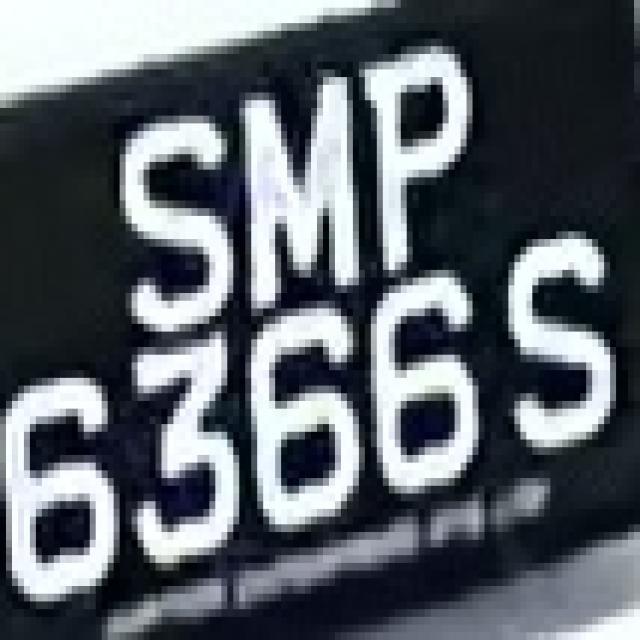3: (108, 324, 251, 563)
6: (353, 247, 490, 509), (239, 285, 371, 532), (0, 339, 120, 609)
M: (233, 54, 371, 308)
P: (353, 15, 490, 270)
S: (497, 208, 610, 478), (120, 93, 233, 347)
